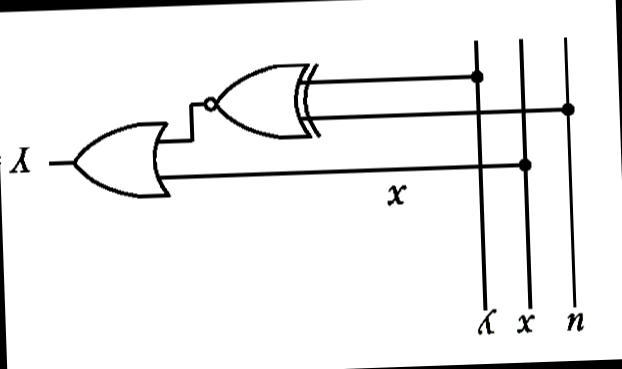or: (65, 115, 175, 205)
xnor: (194, 56, 326, 148)
